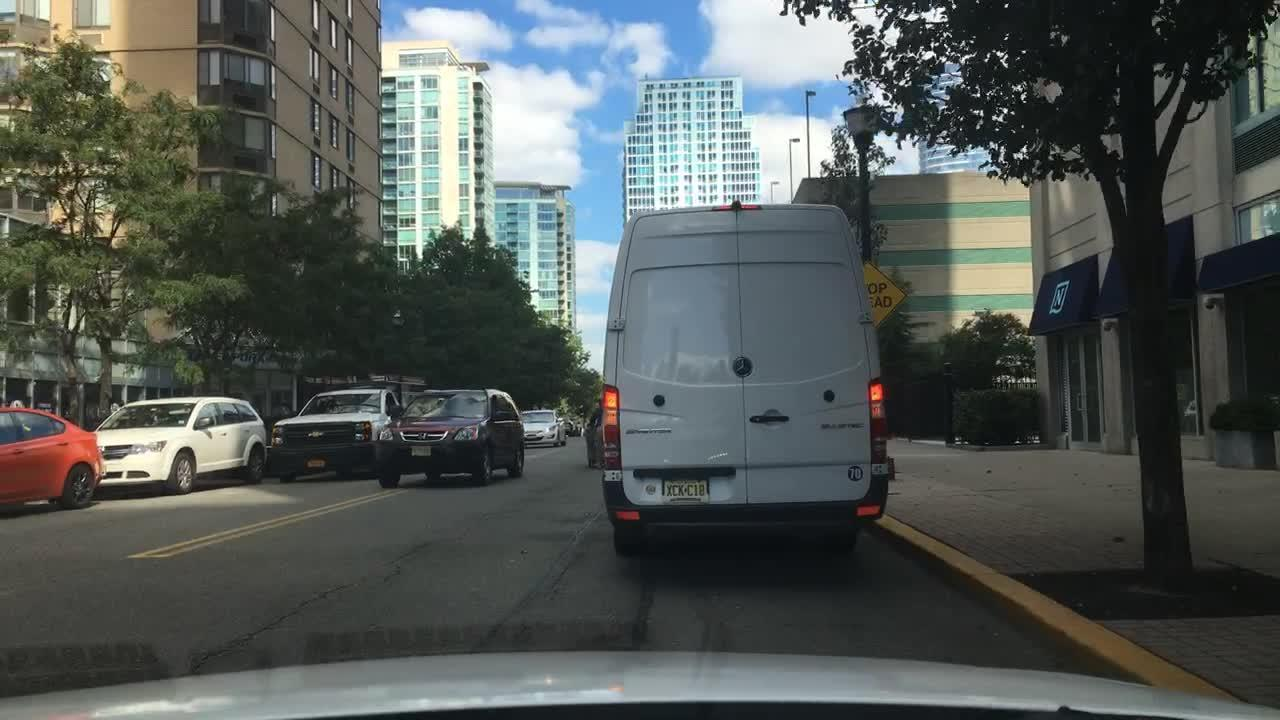Mercedes: (731, 353, 754, 379)
